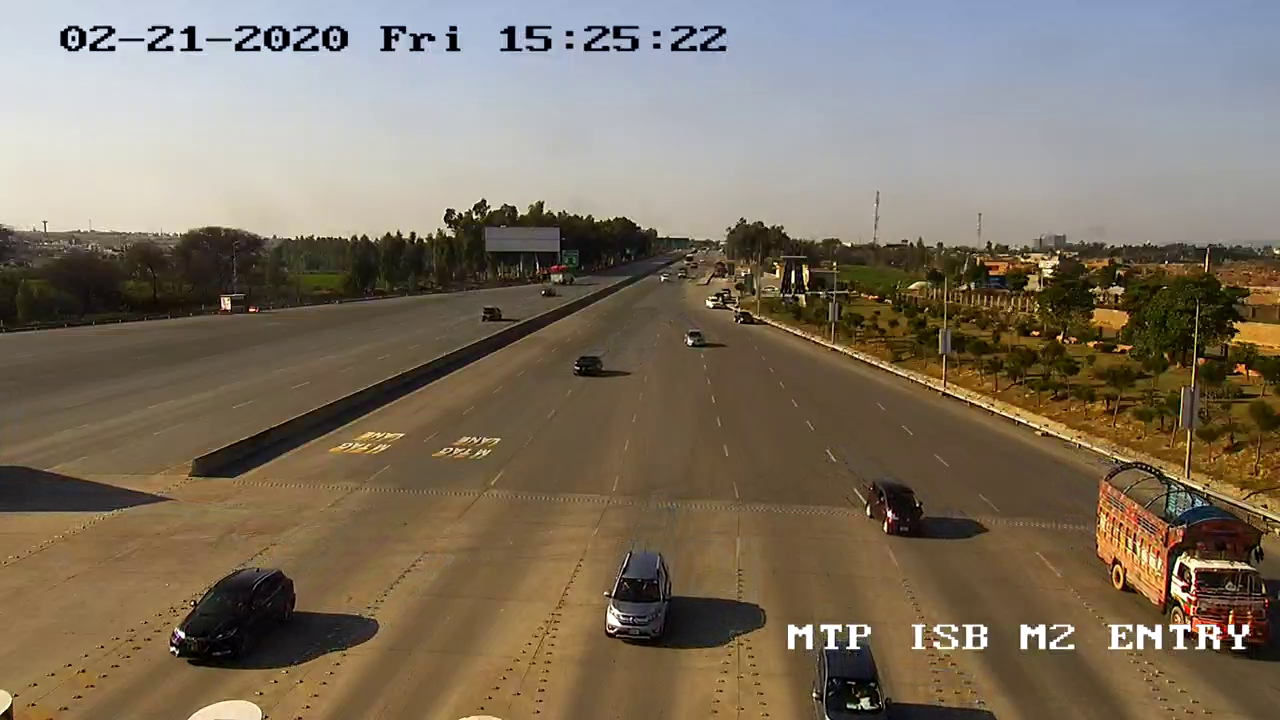f1: (153, 561, 314, 668), (594, 545, 683, 647), (857, 476, 939, 545)
f5: (1093, 460, 1280, 646)
